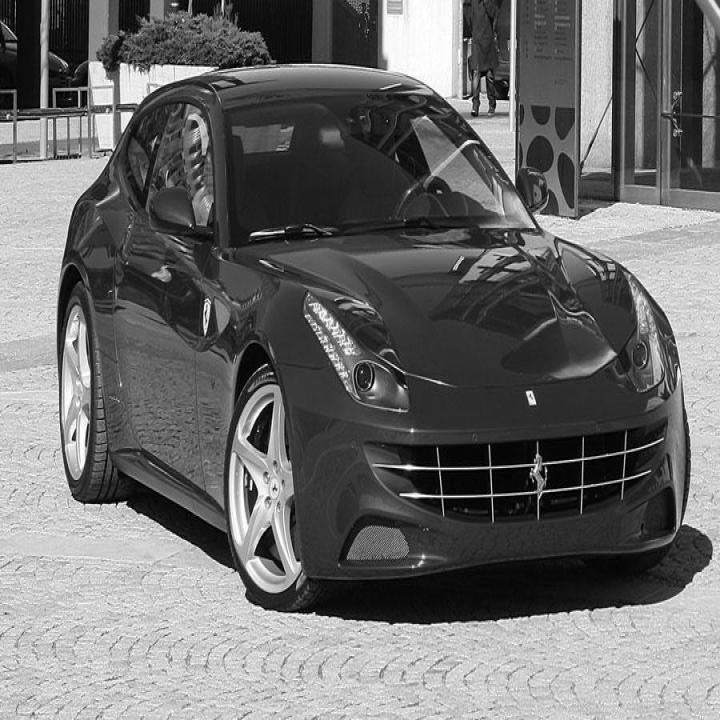car: (55, 61, 692, 614)
